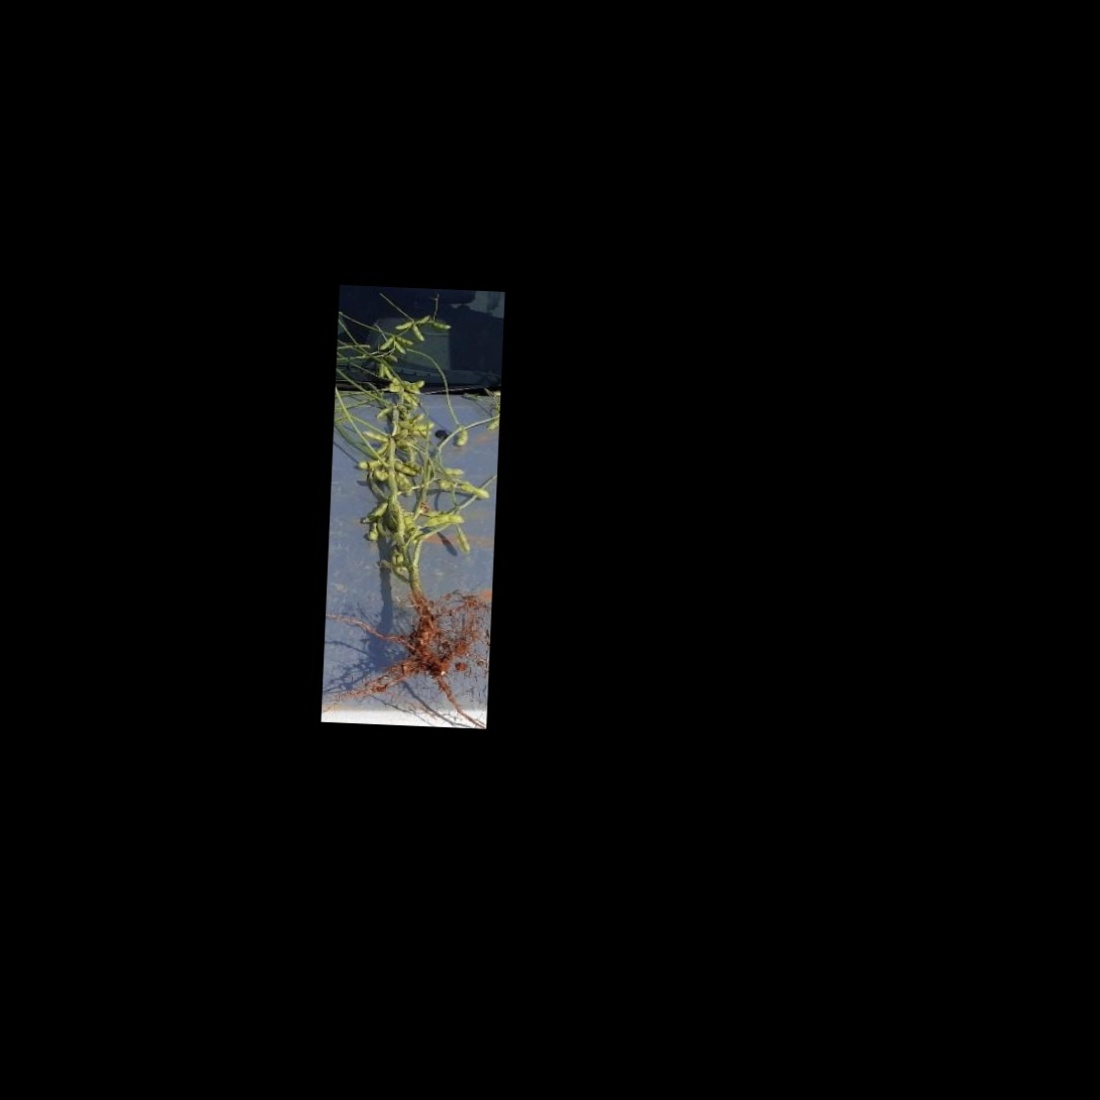pod: (419, 513, 466, 532), (458, 482, 493, 501), (454, 527, 472, 556), (452, 427, 471, 449), (363, 430, 389, 444), (373, 405, 392, 421), (356, 458, 381, 470), (410, 323, 425, 343), (403, 379, 426, 392), (440, 466, 466, 477), (378, 335, 395, 352), (431, 321, 452, 331), (393, 320, 412, 331), (381, 364, 393, 381), (394, 340, 407, 356), (376, 362, 385, 379)
soy: (332, 289, 500, 705)
